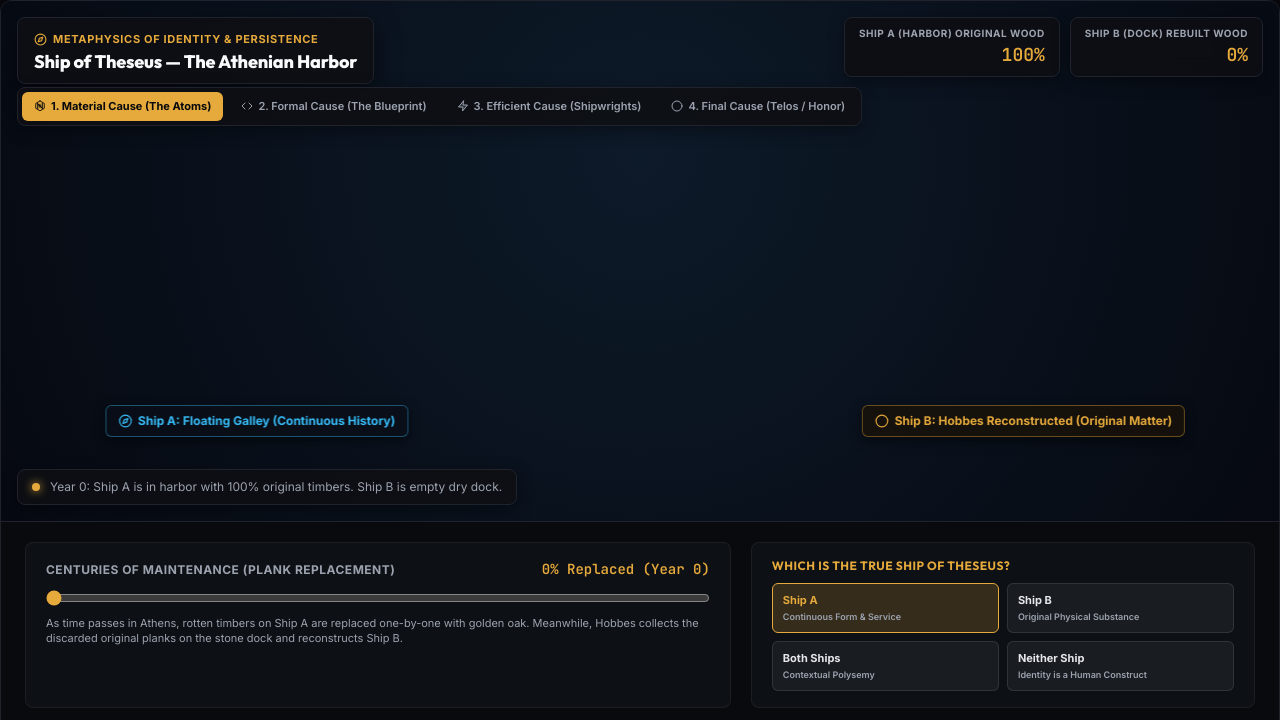
Test: ShipOfTheseus3DLab › switches between Aristotles four causes lenses
# Formal Cause
Click the button "2. Formal Cause (The Blueprint)".
click(334, 106)  # box left=229, top=92, right=439, bottom=120
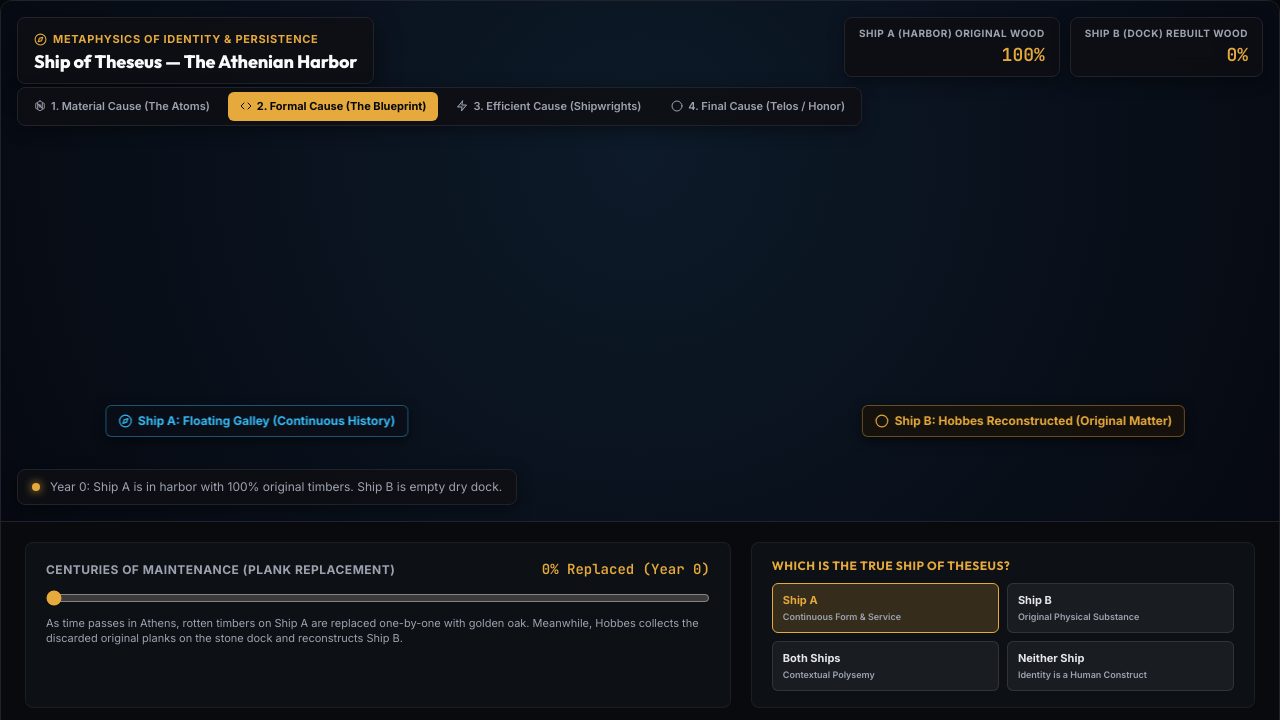
# Efficient Cause
Click the button "3. Efficient Cause (Shipwrights)".
click(549, 106)  # box left=444, top=92, right=653, bottom=120
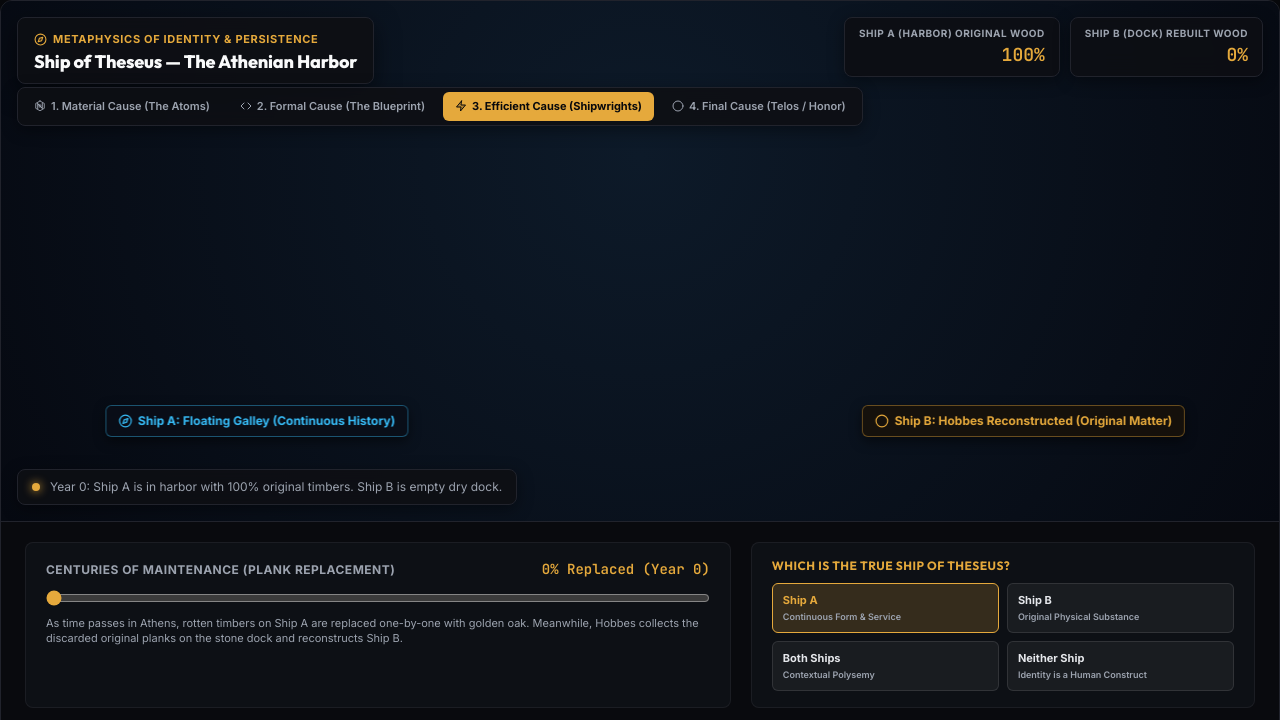
# Final Cause
Click the button "4. Final Cause (Telos / Honor)".
click(759, 106)  # box left=660, top=92, right=858, bottom=120
(page scrolled)
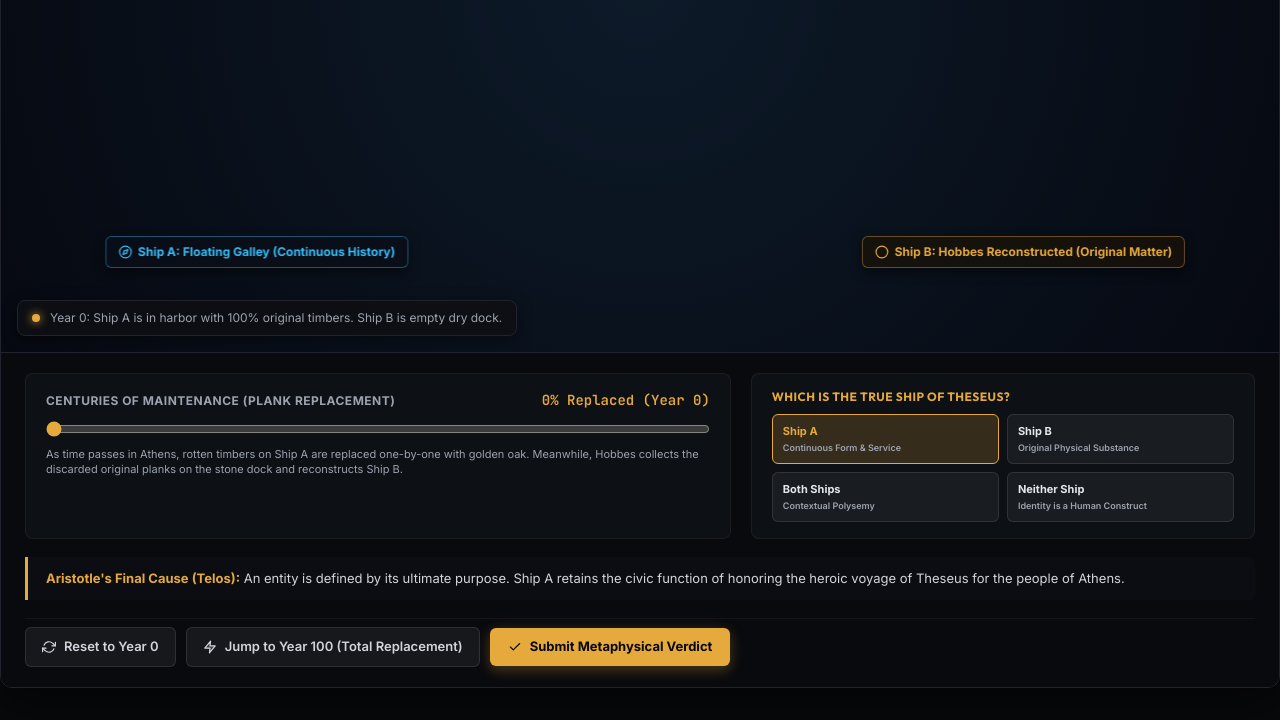
Now the text "Aristotle's Final Cause (Telos):" is shown, box left=46, top=570, right=240, bottom=586
